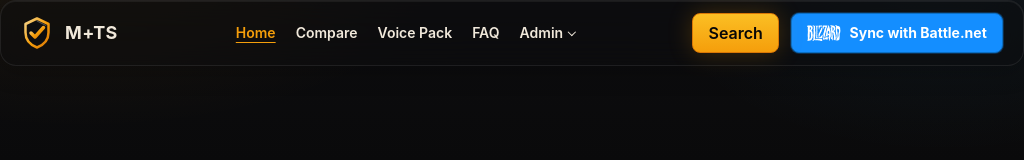
Scenario: AppHeader admin navigation › shows only destinations matching the user's permissions
The width and height of the screenshot is (1024, 160).
Click the button with test id "nav-dropdown-trigger".
click(547, 33)  # box [520, 22, 574, 44]
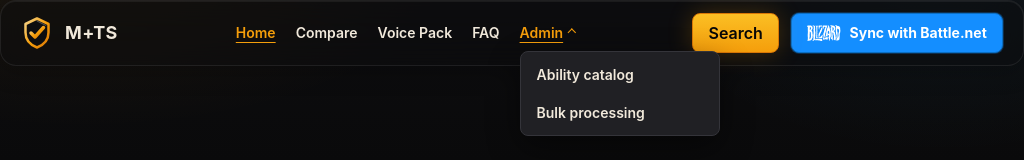
Now the element with test id "admin-nav-dropdown" shows "Ability catalog", box [525, 56, 715, 94]
Now the element with test id "admin-nav-dropdown" shows "Bulk processing", box [525, 94, 715, 131]
